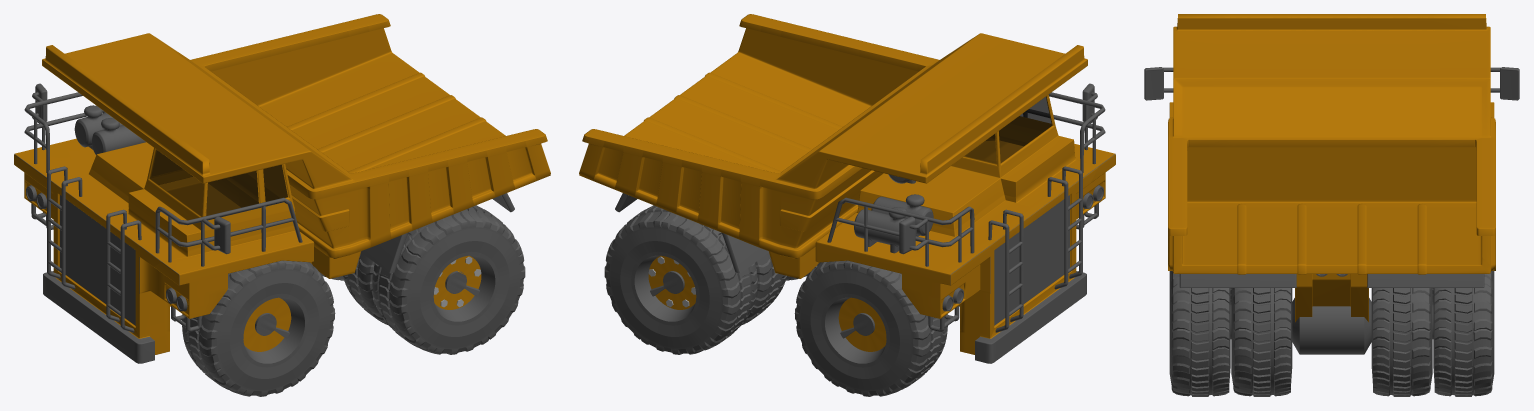
Rendered from Dozer.fbx.
3 views of the same model, side by side, from view 1: azimuth 30°, elevation 25°; view 2: azimuth 150°, elevation 25°; view 3: azimuth 270°, elevation 25° (orthographic).
Parts seen in each view (by area): view 1: Body, Back_Wheels_Left, Front_Left_Wheel; view 2: Body, Back_Right_Wheels, Front_Right_Wheel; view 3: Body, Back_Right_Wheels, Back_Wheels_Left, Back_Wheel_Bar.
Boxes of the visible parts, x1,y1,x2,y2 form: Body: (14, 14, 550, 363); Back_Wheels_Left: (343, 205, 525, 354); Front_Left_Wheel: (182, 260, 335, 396); Body: (579, 14, 1115, 363); Back_Right_Wheels: (604, 205, 786, 354); Front_Right_Wheel: (794, 260, 947, 396); Body: (1144, 14, 1519, 322); Back_Right_Wheels: (1371, 271, 1494, 396); Back_Wheels_Left: (1169, 271, 1292, 396); Back_Wheel_Bar: (1292, 298, 1371, 354).
Bounding box in the file's own units: 1169 × 740 × 998.
